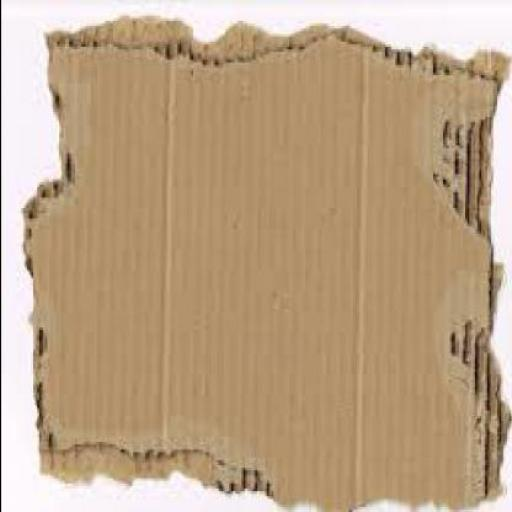cardboard: (26, 16, 511, 511)
